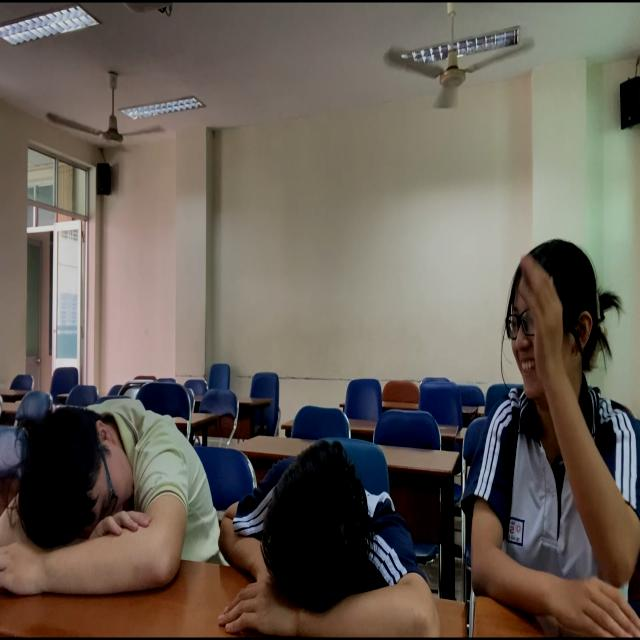sleep: (1, 399, 247, 640), (212, 434, 454, 638)
